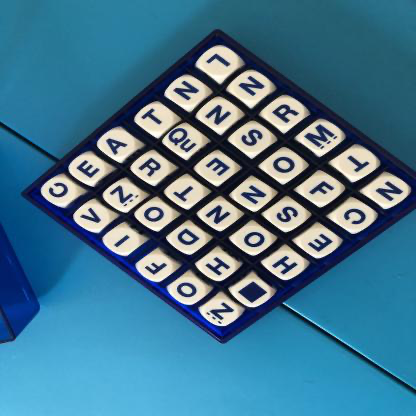a: (100, 131, 136, 159)
c: (337, 204, 375, 232), (42, 179, 78, 206)
d: (170, 226, 207, 253)
e: (300, 228, 341, 257), (199, 155, 237, 183), (70, 157, 107, 184)
f: (304, 176, 342, 205), (138, 254, 174, 281)
h: (267, 252, 305, 280), (201, 254, 238, 282)
i: (105, 228, 142, 254)
l: (201, 48, 239, 77)
m: (302, 122, 343, 152)
n: (370, 177, 410, 208), (231, 73, 272, 101), (200, 101, 239, 130), (235, 181, 274, 209), (170, 78, 207, 107), (202, 202, 240, 229)
o: (267, 152, 306, 181), (235, 226, 272, 254), (138, 202, 174, 229), (171, 278, 207, 304)
qu: (166, 127, 203, 155)
r: (265, 98, 307, 129), (134, 155, 172, 182)
s: (233, 125, 272, 154), (271, 202, 307, 229)
t: (338, 149, 379, 178), (139, 105, 175, 133), (168, 180, 205, 206)
v: (75, 205, 111, 231)
wild: (235, 278, 273, 307)
z: (201, 300, 240, 327), (106, 184, 142, 210)
